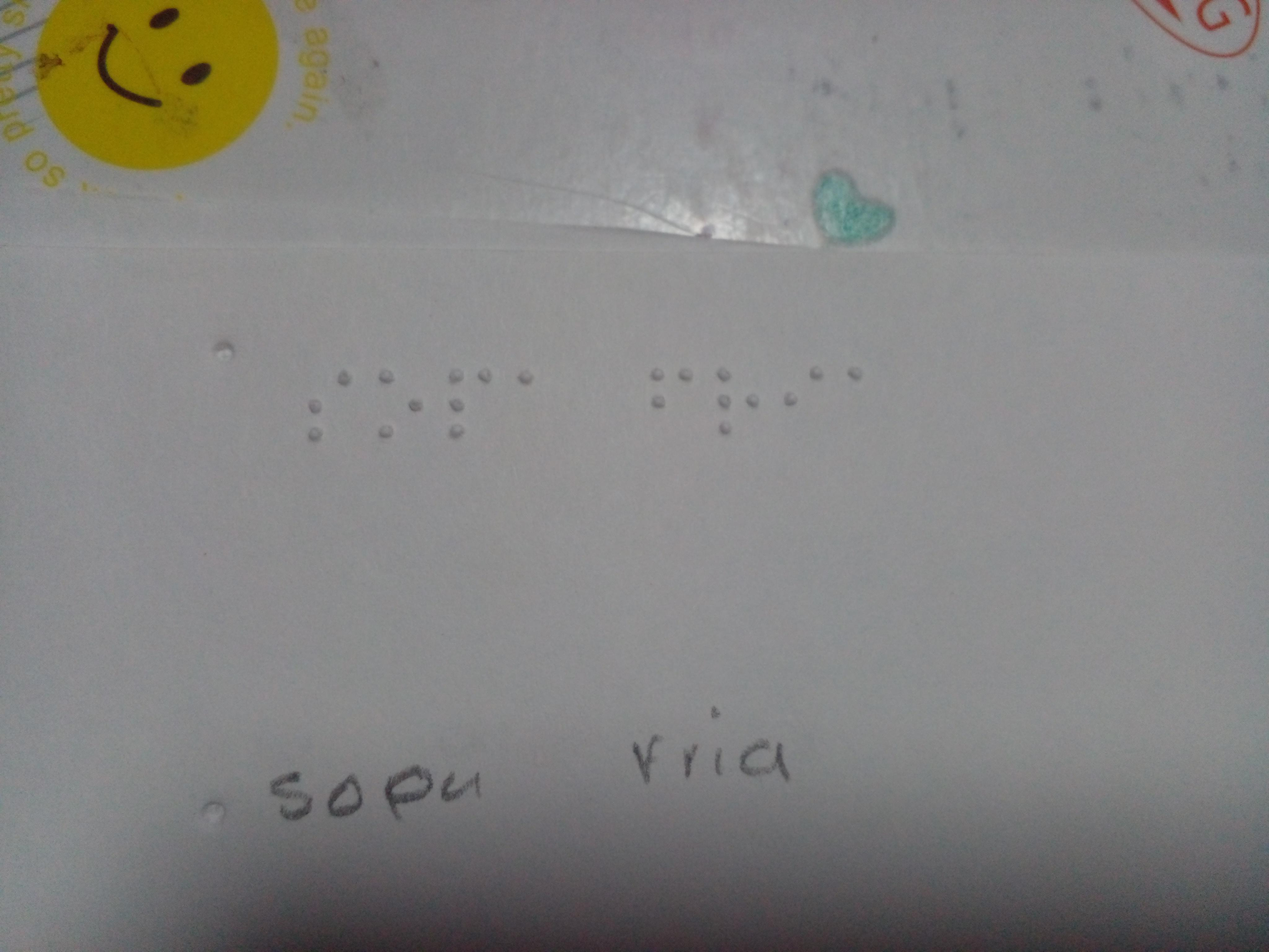a: (840, 353, 877, 397), (503, 359, 541, 401)
f: (641, 355, 699, 426)
i: (778, 353, 833, 425)
o: (378, 366, 437, 445)
p: (443, 361, 497, 446)
r: (706, 358, 767, 446)
s: (290, 366, 356, 459)
